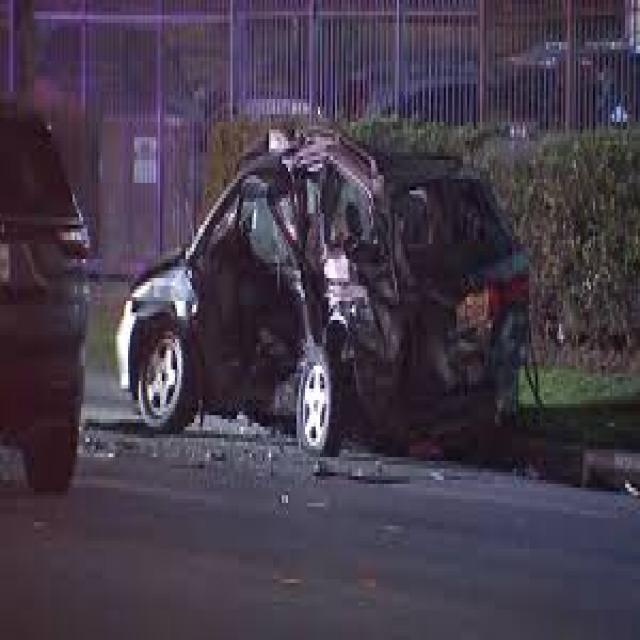accident: (112, 149, 537, 486)
